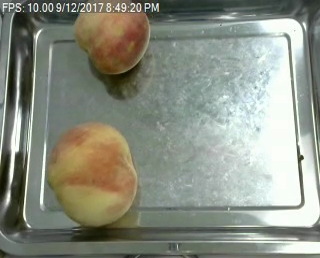Peach: (48, 119, 138, 227), (73, 0, 151, 74)
